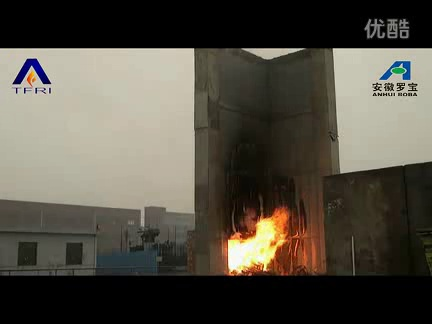fire: (224, 202, 293, 278)
